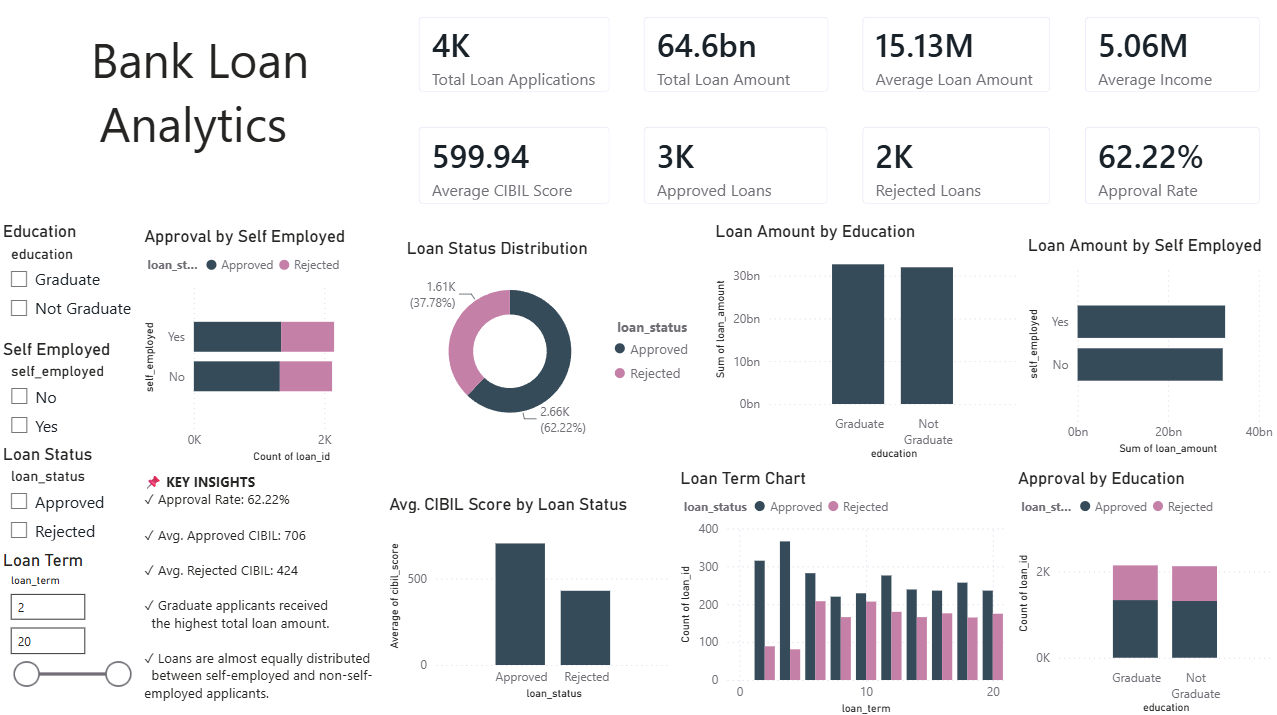

What the dashboard file says about the page in this screenshot:
{"tool":"powerbi","page":{"name":"Page 1","canvas":[1280,720],"ordinal":0},"visuals":[{"type":"cardVisual","fields":{"Data":["Sheet1.Total Loan Applications"]},"box":[403.4,0,225,109.8],"z":0},{"type":"cardVisual","fields":{"Data":["Sheet1.Total Loan Amount"]},"box":[628.5,0,219.6,109.8],"z":1000},{"type":"cardVisual","fields":{"Data":["Sheet1.Average Loan Amount"]},"box":[848,0,222.3,109.8],"z":2000},{"type":"cardVisual","fields":{"Data":["Sheet1.Average Income"]},"box":[1070.3,0,209.9,109.8],"z":3000},{"type":"cardVisual","fields":{"Data":["Sheet1.Average CIBIL Score"]},"box":[403.4,109.8,225,111.1],"z":4000},{"type":"cardVisual","fields":{"Data":["Sheet1.Approved Loans"]},"box":[628.8,110,218.8,111.2],"z":5000},{"type":"cardVisual","fields":{"Data":["Sheet1.Rejected Loans"]},"box":[847.5,110,222.5,111.2],"z":6000},{"type":"cardVisual","fields":{"Data":["Sheet1.Approval Rate"]},"box":[1070.3,109.8,209.9,111.1],"z":7000},{"type":"donutChart","title":"Loan Status Distribution","fields":{"Category":["Sheet1. loan_status"],"Y":["CountNonNull(Sheet1.loan_id)"]},"box":[403.8,237.5,308.8,208.8],"z":8000},{"type":"clusteredColumnChart","title":"Loan Amount by Education","fields":{"Category":["Sheet1. education"],"Y":["Sum(Sheet1. loan_amount)"]},"box":[712.5,221.2,312.5,243.8],"z":9000},{"type":"clusteredBarChart","title":"Loan Amount by Self Employed","fields":{"Category":["Sheet1. self_employed"],"Y":["Sum(Sheet1. loan_amount)"]},"box":[1025,235,255,225],"z":10000},{"type":"clusteredColumnChart","title":"Avg. CIBIL Score by Loan Status","fields":{"Category":["Sheet1. loan_status"],"Y":["Avg(Sheet1. cibil_score)"]},"box":[386.2,493.8,292.5,211.2],"z":11000},{"type":"clusteredColumnChart","title":"Loan Term Chart","fields":{"Category":["Sheet1. loan_term"],"Series":["Sheet1. loan_status"],"Y":["CountNonNull(Sheet1.loan_id)"]},"box":[677.5,467.5,333.8,252.5],"z":12000},{"type":"columnChart","title":"Approval by Education","fields":{"Category":["Sheet1. education"],"Series":["Sheet1. loan_status"],"Y":["CountNonNull(Sheet1.loan_id)"]},"box":[1015,467.5,265,251.2],"z":14000},{"type":"barChart","title":"Approval by Self Employed","fields":{"Category":["Sheet1. self_employed"],"Series":["Sheet1. loan_status"],"Y":["CountNonNull(Sheet1.loan_id)"]},"box":[141.2,226.2,262.5,241.2],"z":14001},{"type":"slicer","title":"Education","fields":{"Values":["Sheet1. education"]},"box":[0,221.2,141.2,116.2],"z":14002},{"type":"slicer","title":"Self Employed","fields":{"Values":["Sheet1. self_employed"]},"box":[0,338.8,141.2,105],"z":14003},{"type":"slicer","title":"Loan Status","fields":{"Values":["Sheet1. loan_status"]},"box":[0,443.8,141.2,106.2],"z":14004},{"type":"slicer","title":"Loan Term","fields":{"Values":["Sheet1. loan_term"]},"box":[0,550,141.2,155],"z":14005},{"type":"textbox","box":[0,21.2,403.8,163.8],"z":14006},{"type":"textbox","box":[141.2,467.5,245,251.2],"z":14007}]}

Visuals, with their boxes in screenshot pixels (x1, y1, x2, y2), scaled from the page's 1280x720 canvas onto the 1277x715 screenshot:
cardVisual - Sheet1.Total Loan Applications: detection(402, 0, 627, 109)
cardVisual - Sheet1.Total Loan Amount: detection(627, 0, 846, 109)
cardVisual - Sheet1.Average Loan Amount: detection(846, 0, 1068, 109)
cardVisual - Sheet1.Average Income: detection(1068, 0, 1276, 109)
cardVisual - Sheet1.Average CIBIL Score: detection(402, 109, 627, 219)
cardVisual - Sheet1.Approved Loans: detection(627, 109, 846, 220)
cardVisual - Sheet1.Rejected Loans: detection(846, 109, 1067, 220)
cardVisual - Sheet1.Approval Rate: detection(1068, 109, 1276, 219)
"Loan Status Distribution" donutChart: detection(403, 236, 711, 443)
"Loan Amount by Education" clusteredColumnChart: detection(711, 220, 1023, 462)
"Loan Amount by Self Employed" clusteredBarChart: detection(1023, 233, 1276, 457)
"Avg. CIBIL Score by Loan Status" clusteredColumnChart: detection(385, 490, 677, 700)
"Loan Term Chart" clusteredColumnChart: detection(676, 464, 1009, 714)
"Approval by Education" columnChart: detection(1013, 464, 1276, 714)
"Approval by Self Employed" barChart: detection(141, 225, 403, 464)
"Education" slicer: detection(0, 220, 141, 335)
"Self Employed" slicer: detection(0, 336, 141, 441)
"Loan Status" slicer: detection(0, 441, 141, 546)
"Loan Term" slicer: detection(0, 546, 141, 700)
textbox: detection(0, 21, 403, 184)
textbox: detection(141, 464, 385, 714)
